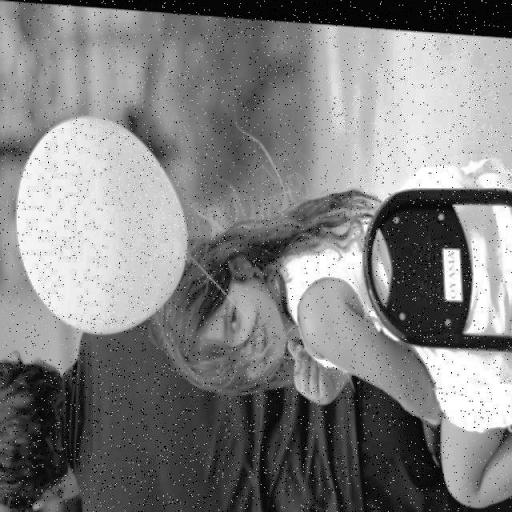balloon: (12, 108, 187, 338)
